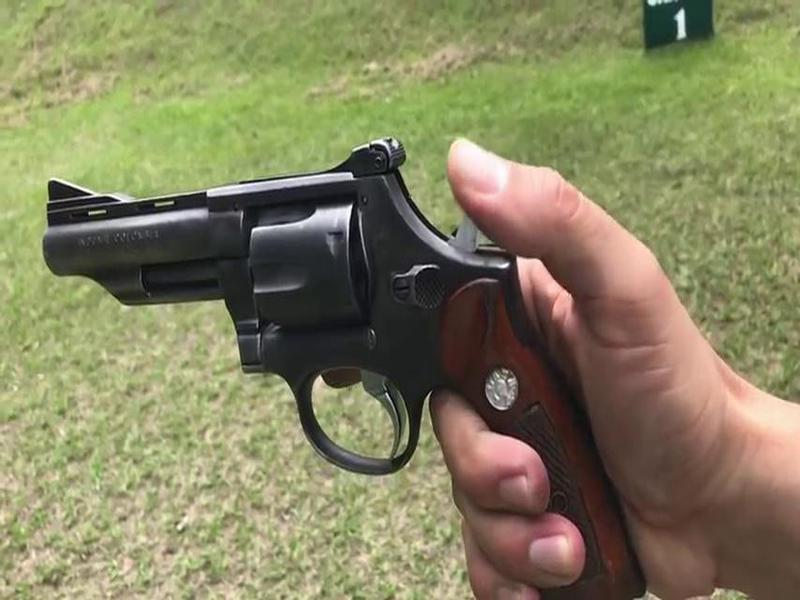Revolver: (58, 132, 651, 591)
